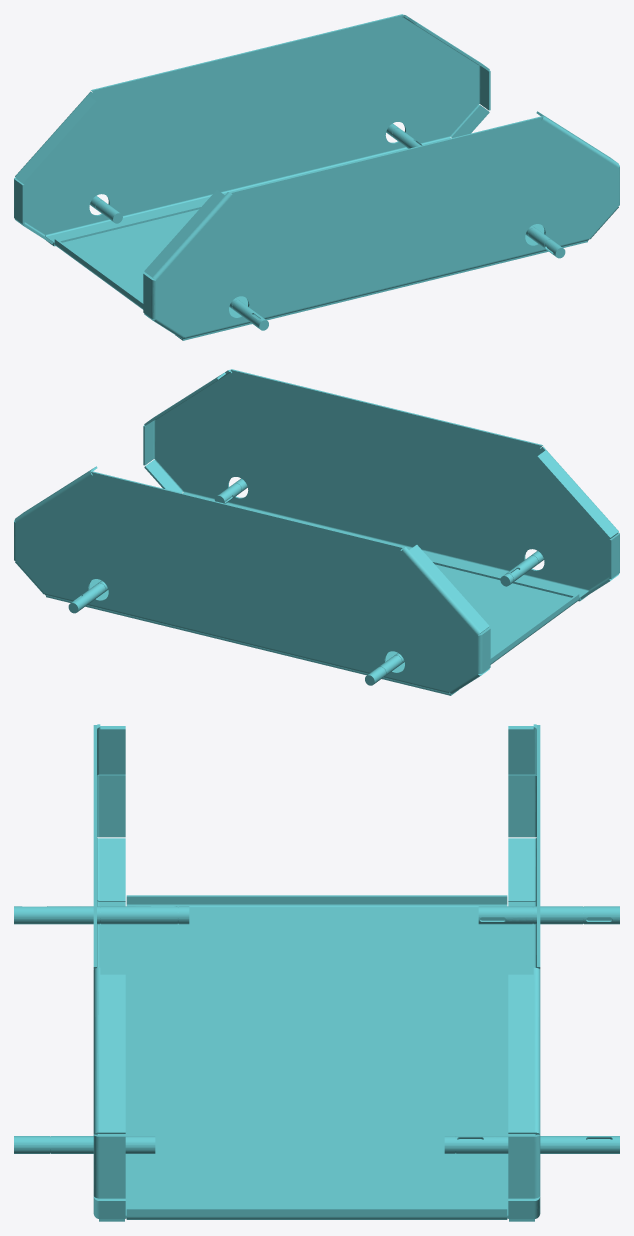
3 views of the same model, one above another, from view 1: azimuth 30°, elevation 25°; view 2: azimuth 150°, elevation 25°; view 3: azimuth 270°, elevation 25° (orthographic). The views are drawn at different scales.
Parts seen in each view (by area): view 1: Base_Link; view 2: Base_Link; view 3: Base_Link.
Part boxes in pixels (x1,y1,x2,y2): Base_Link: [14, 14, 619, 340]; Base_Link: [14, 369, 619, 695]; Base_Link: [14, 724, 619, 1221].
Size of the model in its own units: 0.8088 by 0.5709 by 0.2275.
